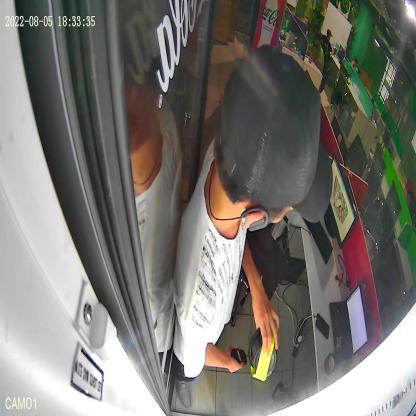yellow: (248, 326, 278, 382)
